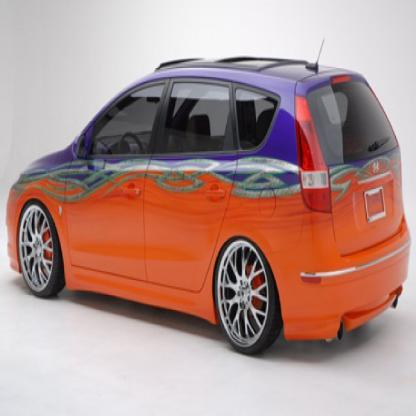Vehicle: (7, 57, 412, 358)
